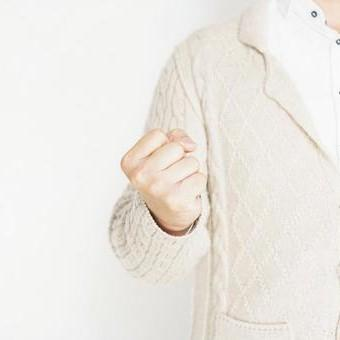gu-: (119, 127, 209, 223)
